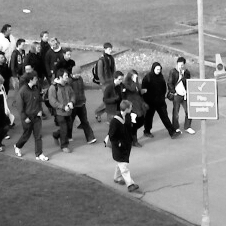person: (15, 73, 50, 161), (108, 98, 140, 192), (144, 62, 176, 138), (68, 64, 98, 143), (94, 42, 121, 124), (168, 56, 196, 134), (47, 68, 71, 152), (102, 70, 127, 148), (124, 68, 145, 148), (20, 64, 45, 118), (1, 73, 13, 156), (10, 38, 28, 77), (46, 37, 64, 75), (1, 23, 17, 63), (55, 46, 76, 74), (26, 41, 46, 69), (1, 50, 11, 90), (38, 29, 50, 54)
